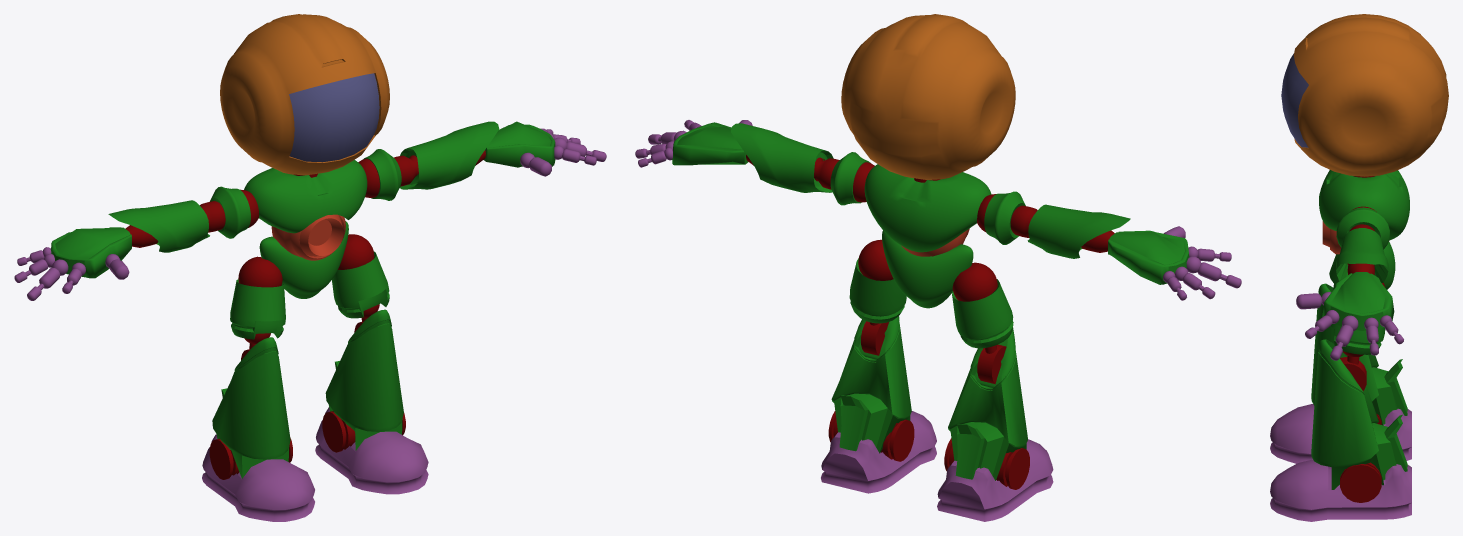
File: SCrapper V2 A.FBX
3 renders of one model, left to right at view 1: azimuth 30°, elevation 25°; view 2: azimuth 150°, elevation 25°; view 3: azimuth 270°, elevation 25°, orthographic. The views are drawn at different scales.
Visible parts, largest first — view 1: Sphere001, Capsule004, Capsule008, Sphere002, Capsule005, Capsule009, Cylinder012, Cylinder007, Box001, Sphere007, Capsule001, Capsule006 (+8 smaller); view 2: Sphere001, Sphere002, Capsule004, Capsule008, Capsule005, Capsule009, Cylinder012, Sphere007, Cylinder007, Box001, Capsule001, Box002 (+10 smaller); view 3: Sphere001, Capsule008, Capsule009, Sphere002, Capsule005, Box002, Capsule004, Cylinder012, Cylinder008, Cylinder011, Capsule006, Sphere022 (+8 smaller).
Boxes of the visible parts, box(x1,y1,x2,y2) form: Sphere001: box(220, 14, 389, 175); Capsule004: box(212, 337, 290, 478); Capsule008: box(325, 309, 403, 450); Sphere002: box(244, 160, 367, 233); Capsule005: box(202, 434, 314, 521); Capsule009: box(315, 407, 428, 494); Cylinder012: box(400, 121, 499, 189); Cylinder007: box(108, 200, 209, 252); Box001: box(51, 227, 131, 278); Sphere007: box(259, 221, 348, 298); Capsule001: box(230, 279, 285, 339); Capsule006: box(332, 251, 389, 318); Sphere001: box(841, 14, 1015, 179); Sphere002: box(864, 164, 991, 252); Capsule004: box(948, 328, 1027, 480); Capsule008: box(831, 316, 911, 453); Capsule005: box(937, 439, 1053, 521); Capsule009: box(821, 411, 936, 493); Cylinder012: box(731, 123, 833, 192); Sphere007: box(882, 230, 973, 308); Cylinder007: box(1027, 204, 1130, 258); Box001: box(1108, 230, 1189, 284); Capsule001: box(952, 279, 1013, 348); Box002: box(672, 122, 748, 165); Sphere001: box(1281, 14, 1448, 176); Capsule008: box(1311, 339, 1407, 489); Capsule009: box(1270, 459, 1411, 521); Sphere002: box(1319, 170, 1409, 240); Capsule005: box(1270, 404, 1411, 463); Box002: box(1322, 272, 1394, 330); Capsule004: box(1311, 283, 1407, 425); Cylinder012: box(1336, 228, 1388, 282); Cylinder008: box(1340, 462, 1381, 502); Cylinder011: box(1336, 207, 1389, 249); Capsule006: box(1331, 324, 1385, 354); Sphere022: box(1330, 315, 1358, 360).
Size of the model in its own units: 44.47 by 33.16 by 11.84.
